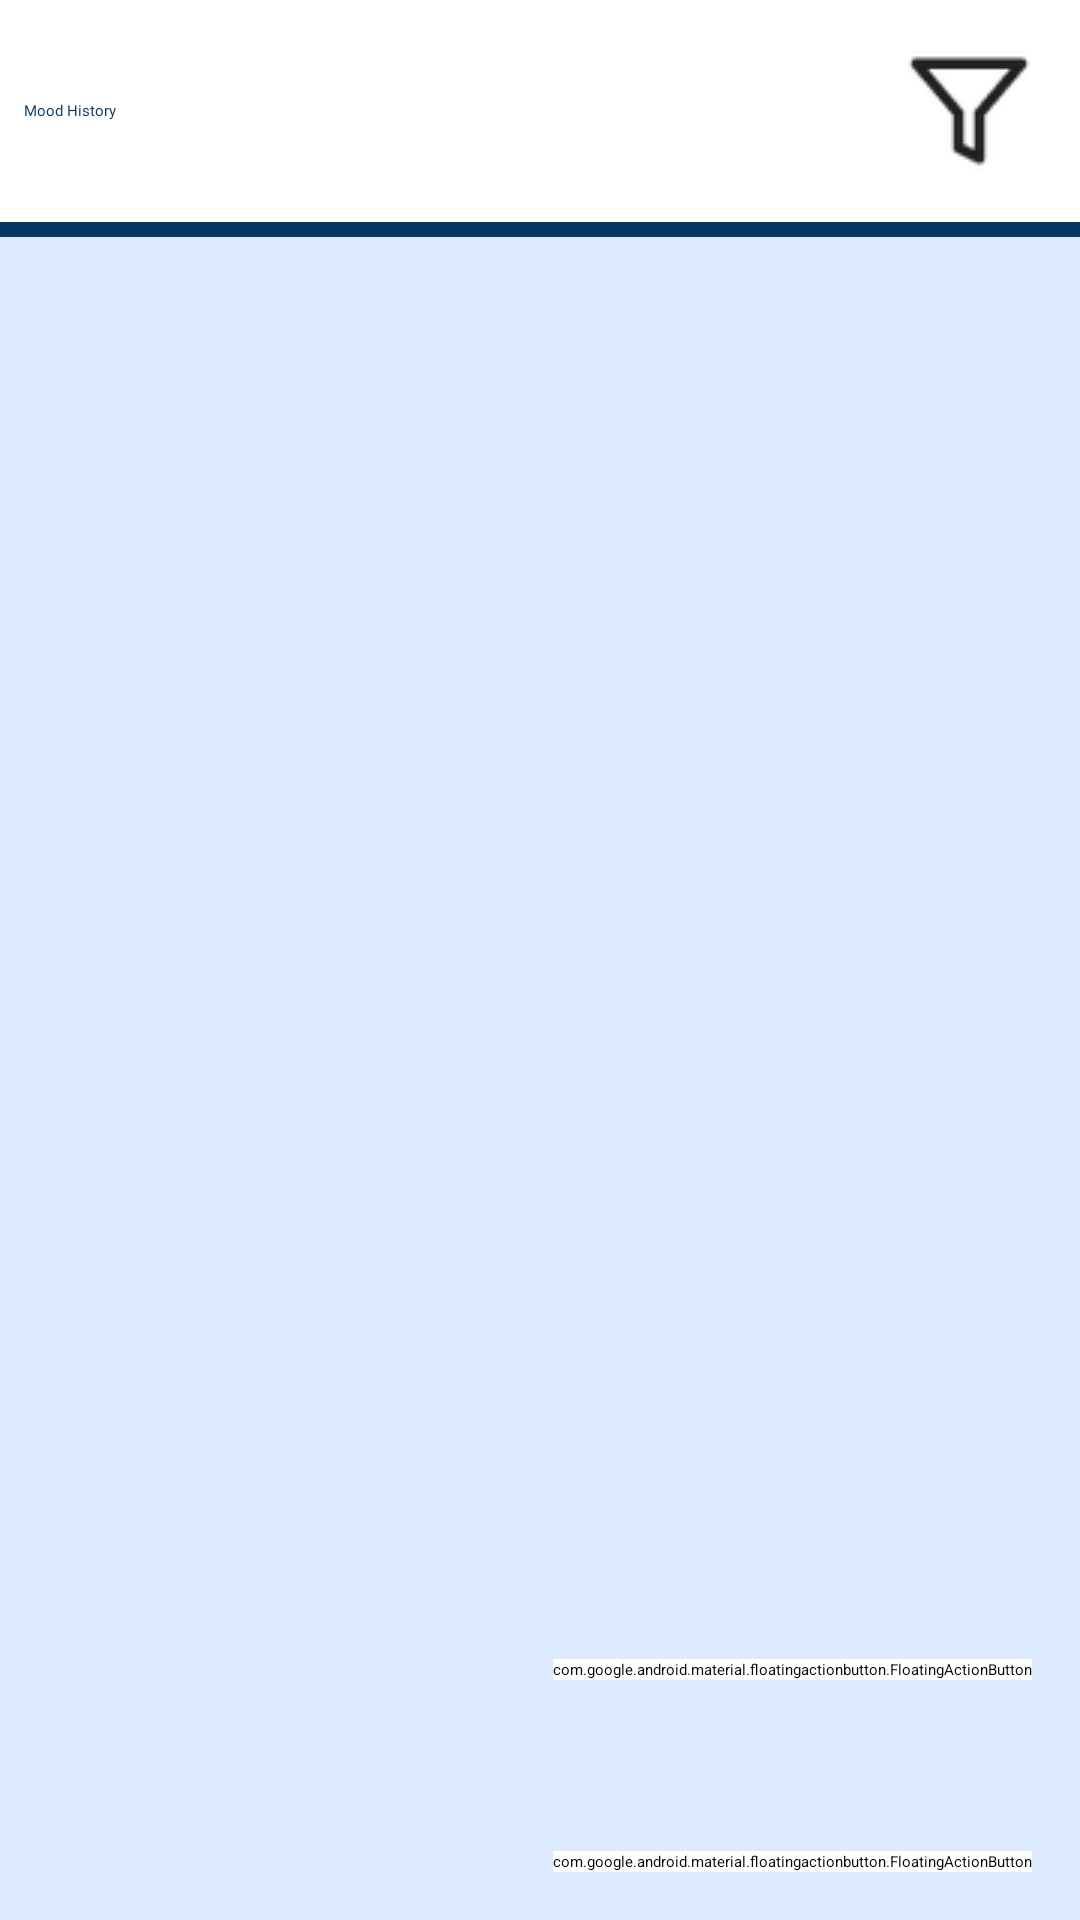

Icons on this 1080w x 1920h Android screen, each with the point to tap as (x,y):
filter: (969,111)
